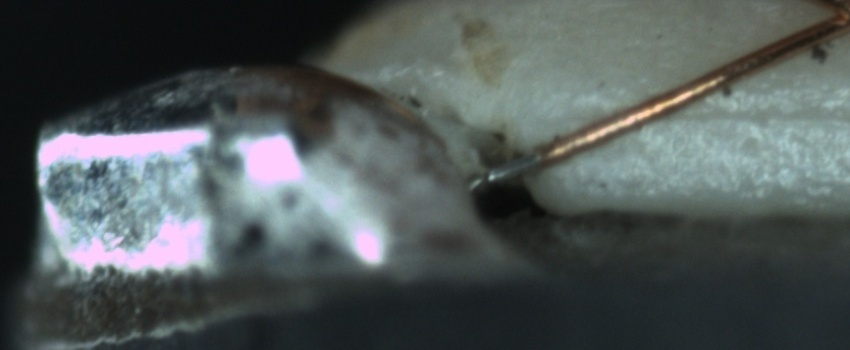CL: (804, 1, 850, 34)
DL: (615, 77, 845, 148)
TS: (479, 152, 541, 186)
